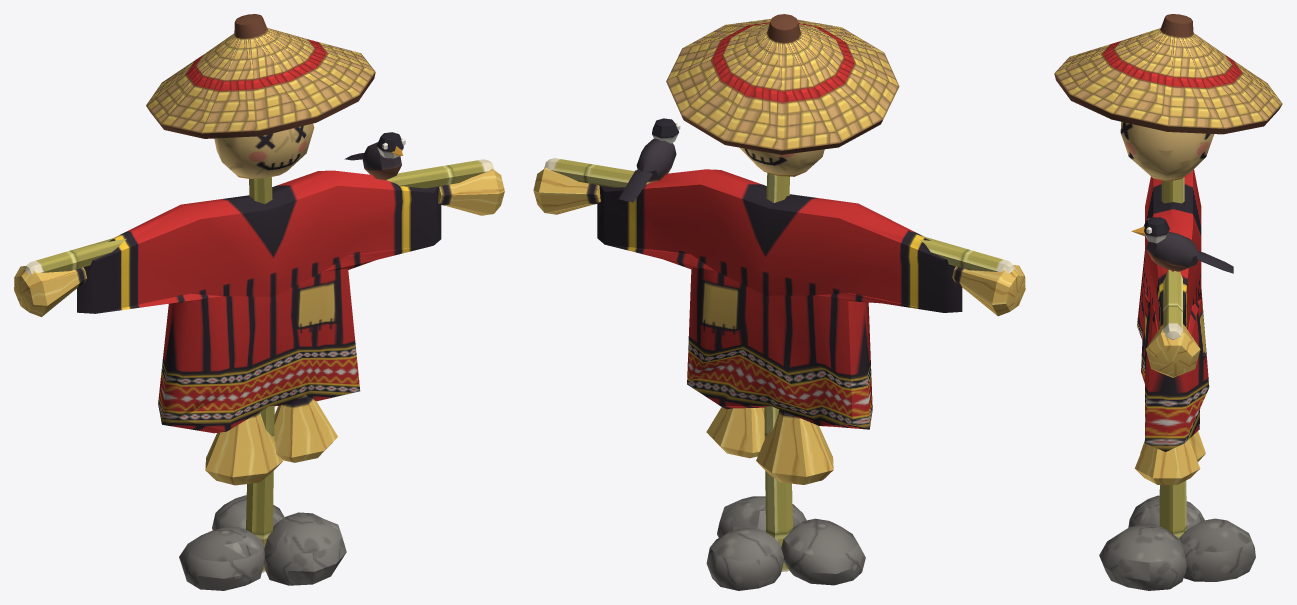
File: scarecrow.glb
The picture shows the model from 3 angles, left to right: view 1: azimuth 30°, elevation 25°; view 2: azimuth 150°, elevation 25°; view 3: azimuth 270°, elevation 25°; orthographic projection.
Visible parts, largest first — view 1: scarecrow; view 2: scarecrow; view 3: scarecrow.
Part boxes in pixels (x1,y1,x2,y2): scarecrow: [14, 14, 504, 590]; scarecrow: [533, 14, 1025, 590]; scarecrow: [1054, 14, 1282, 590].
Size of the model in its own units: 2.23 by 2.46 by 0.9338.
Materials: 1 (1 with a texture image).
